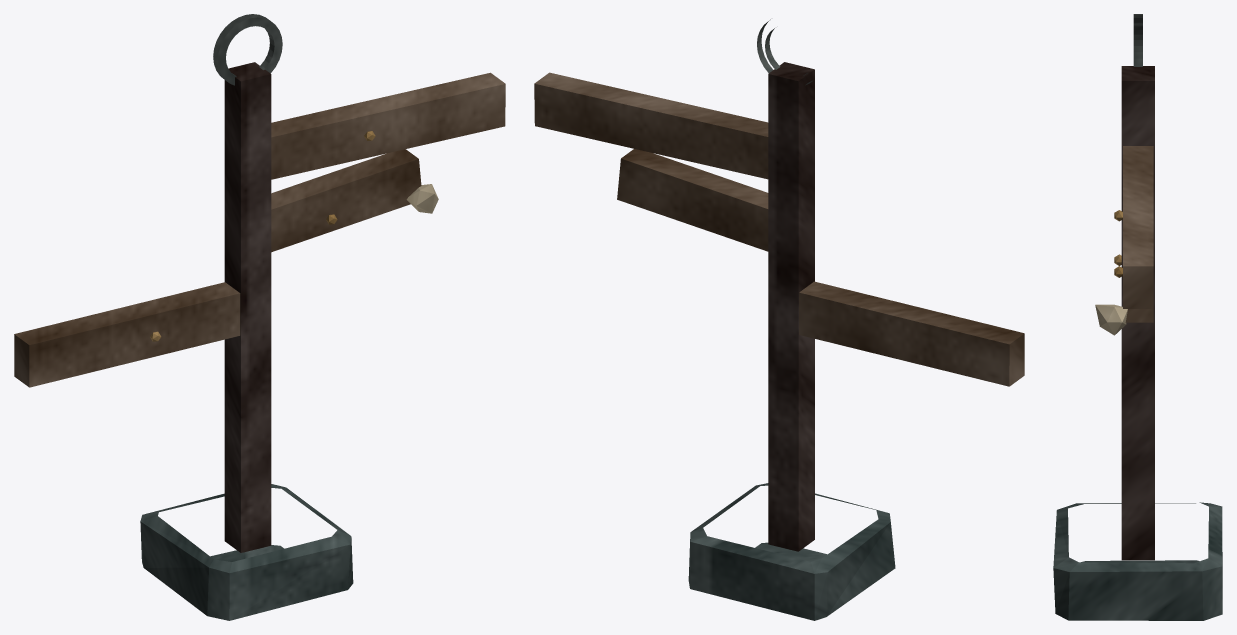
Rendered from 0633_signpost_08.glb.
3 renders of one model, left to right at view 1: azimuth 30°, elevation 25°; view 2: azimuth 150°, elevation 25°; view 3: azimuth 270°, elevation 25°, orthographic.
Visible parts, largest first — view 1: wood, wood_dark, stone_dark, iron; view 2: wood, wood_dark, stone_dark; view 3: stone_dark, wood_dark, wood, bone, iron, brass.
Boxes of the visible parts, x1,y1,x2,y2 form: wood: (14,72,505,387); wood_dark: (224,62,271,552); stone_dark: (140,484,353,620); iron: (213,14,282,85); wood: (534,72,1024,386); wood_dark: (768,62,814,551); stone_dark: (688,483,895,620); stone_dark: (1053,502,1222,620); wood_dark: (1121,66,1154,560); wood: (1123,146,1153,322); bone: (1095,304,1127,335); iron: (1133,14,1142,66); brass: (1114,210,1122,277).
Size of the model in its own units: 2.35 by 2.66 by 0.7116.
6 materials, 6 textured.
